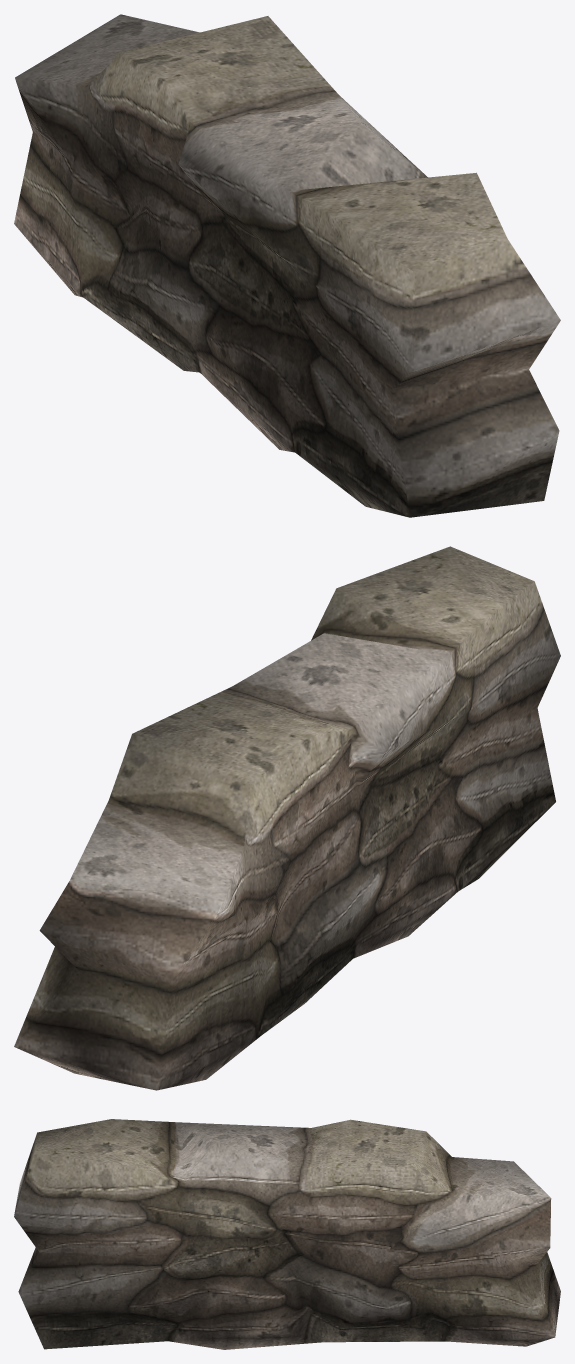
File: Wallbags_LOD1.fbx
3 renders of one model, top to bottom at view 1: azimuth 30°, elevation 25°; view 2: azimuth 150°, elevation 25°; view 3: azimuth 270°, elevation 25°, orthographic. The views are drawn at different scales.
Visible parts, largest first — view 1: sack_wall_120tris_Group1040; view 2: sack_wall_120tris_Group1040; view 3: sack_wall_120tris_Group1040.
Boxes of the visible parts, box(x1,y1,x2,y2) form: sack_wall_120tris_Group1040: box(14, 14, 560, 517); sack_wall_120tris_Group1040: box(14, 546, 560, 1090); sack_wall_120tris_Group1040: box(14, 1119, 560, 1349).
Size of the model in its own units: 1.45 by 2.07 by 5.2.
Materials: 1 (1 with a texture image).
